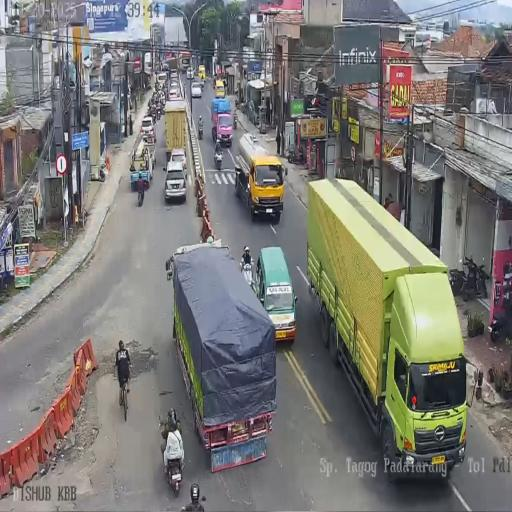car: (212, 108, 233, 148), (168, 148, 187, 180), (140, 116, 155, 144), (244, 99, 258, 125), (168, 86, 180, 102), (215, 79, 225, 98), (191, 82, 202, 98), (198, 65, 206, 81), (170, 69, 178, 85), (186, 67, 194, 79), (162, 60, 170, 72)
motorcycle: (450, 254, 486, 298), (161, 438, 184, 497), (488, 305, 511, 343), (286, 144, 304, 166), (214, 146, 222, 169), (150, 103, 157, 121), (198, 120, 204, 139), (156, 102, 162, 119)
truck: (306, 175, 465, 478), (170, 246, 277, 472), (235, 131, 284, 222), (155, 72, 168, 92), (181, 55, 190, 72)
